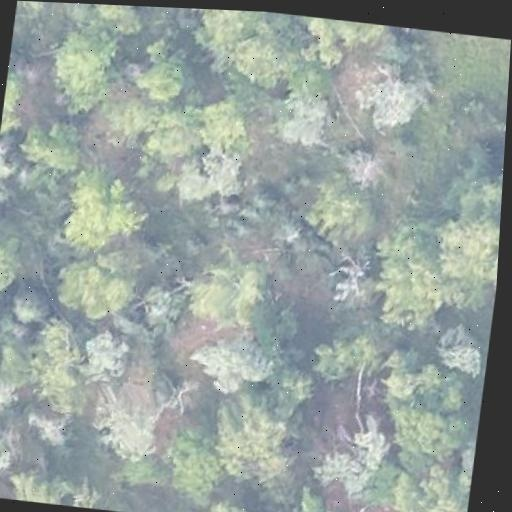tree-top: (363, 208, 501, 331), (368, 344, 488, 474), (50, 161, 155, 256), (212, 390, 309, 485), (188, 9, 300, 89), (46, 12, 125, 119), (154, 419, 241, 512), (184, 251, 280, 334), (188, 327, 285, 400), (55, 252, 140, 320), (301, 317, 376, 393), (28, 320, 89, 413), (302, 179, 382, 247), (175, 139, 249, 209), (134, 99, 206, 167), (20, 116, 95, 178), (138, 38, 203, 109), (361, 70, 431, 135), (291, 15, 382, 65), (443, 150, 504, 219), (387, 467, 472, 512), (438, 319, 490, 383), (80, 324, 135, 384), (203, 95, 255, 153), (255, 485, 365, 512), (13, 458, 74, 506), (137, 279, 189, 335), (371, 25, 424, 70), (0, 62, 34, 132), (281, 57, 331, 104), (0, 220, 29, 288), (28, 409, 73, 451), (81, 4, 150, 31), (9, 284, 48, 326), (0, 361, 24, 417), (180, 496, 262, 512), (0, 425, 16, 478)
